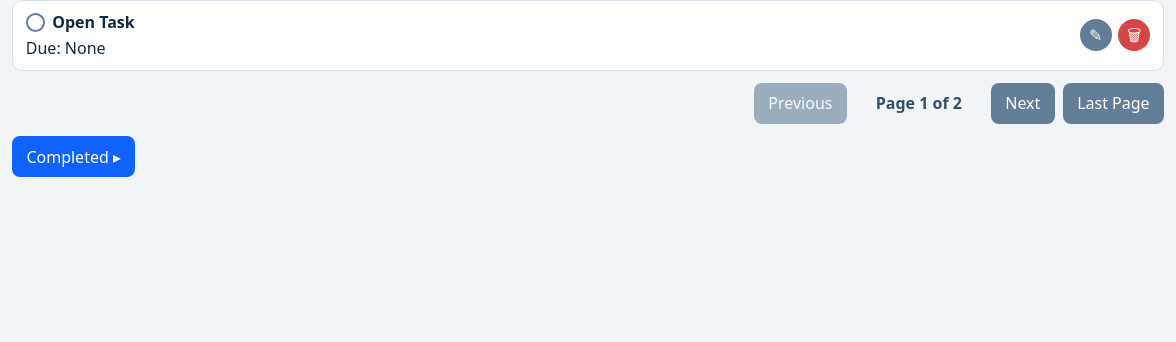
Scenario: TaskList › loads open tasks and allows expanding completed section
This screenshot has width=1176, height=342.
Expected: the text "Open Task" is shown, [52, 11, 135, 33]
Expected: the navigation bar named "In Progress pagination" is shown, [754, 83, 1164, 124]
Click the button "Completed ▸": (74, 157) [12, 136, 135, 177]
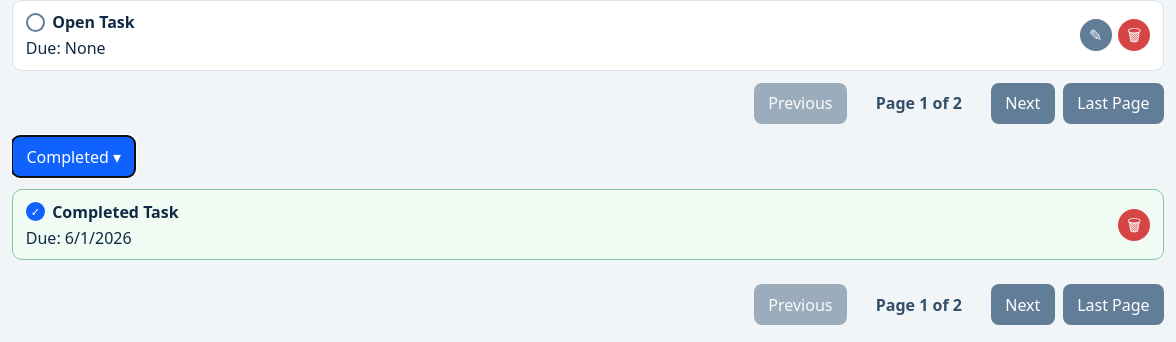
Expected: the navigation bar named "Completed pagination" is shown, [754, 284, 1164, 325]
